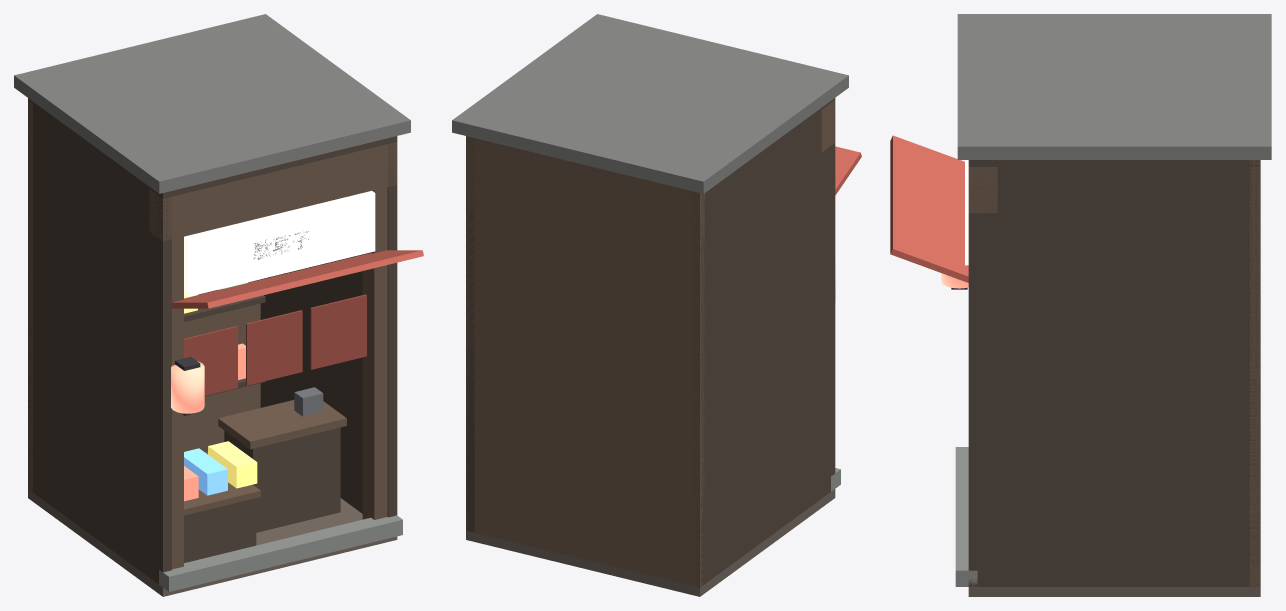
Rendered from shop_aka.glb.
The picture shows the model from 3 angles, left to right: view 1: azimuth 30°, elevation 25°; view 2: azimuth 150°, elevation 25°; view 3: azimuth 270°, elevation 25°; orthographic projection. The views are drawn at different scales.
Visible parts, largest first — view 1: shop_aka; view 2: shop_aka; view 3: shop_aka.
Boxes of the visible parts, x1,y1,x2,y2 form: shop_aka: (14, 14, 423, 596); shop_aka: (452, 14, 861, 596); shop_aka: (890, 14, 1271, 596).
Bounding box in the file's own units: 8.6 × 13.75 × 10.44.
